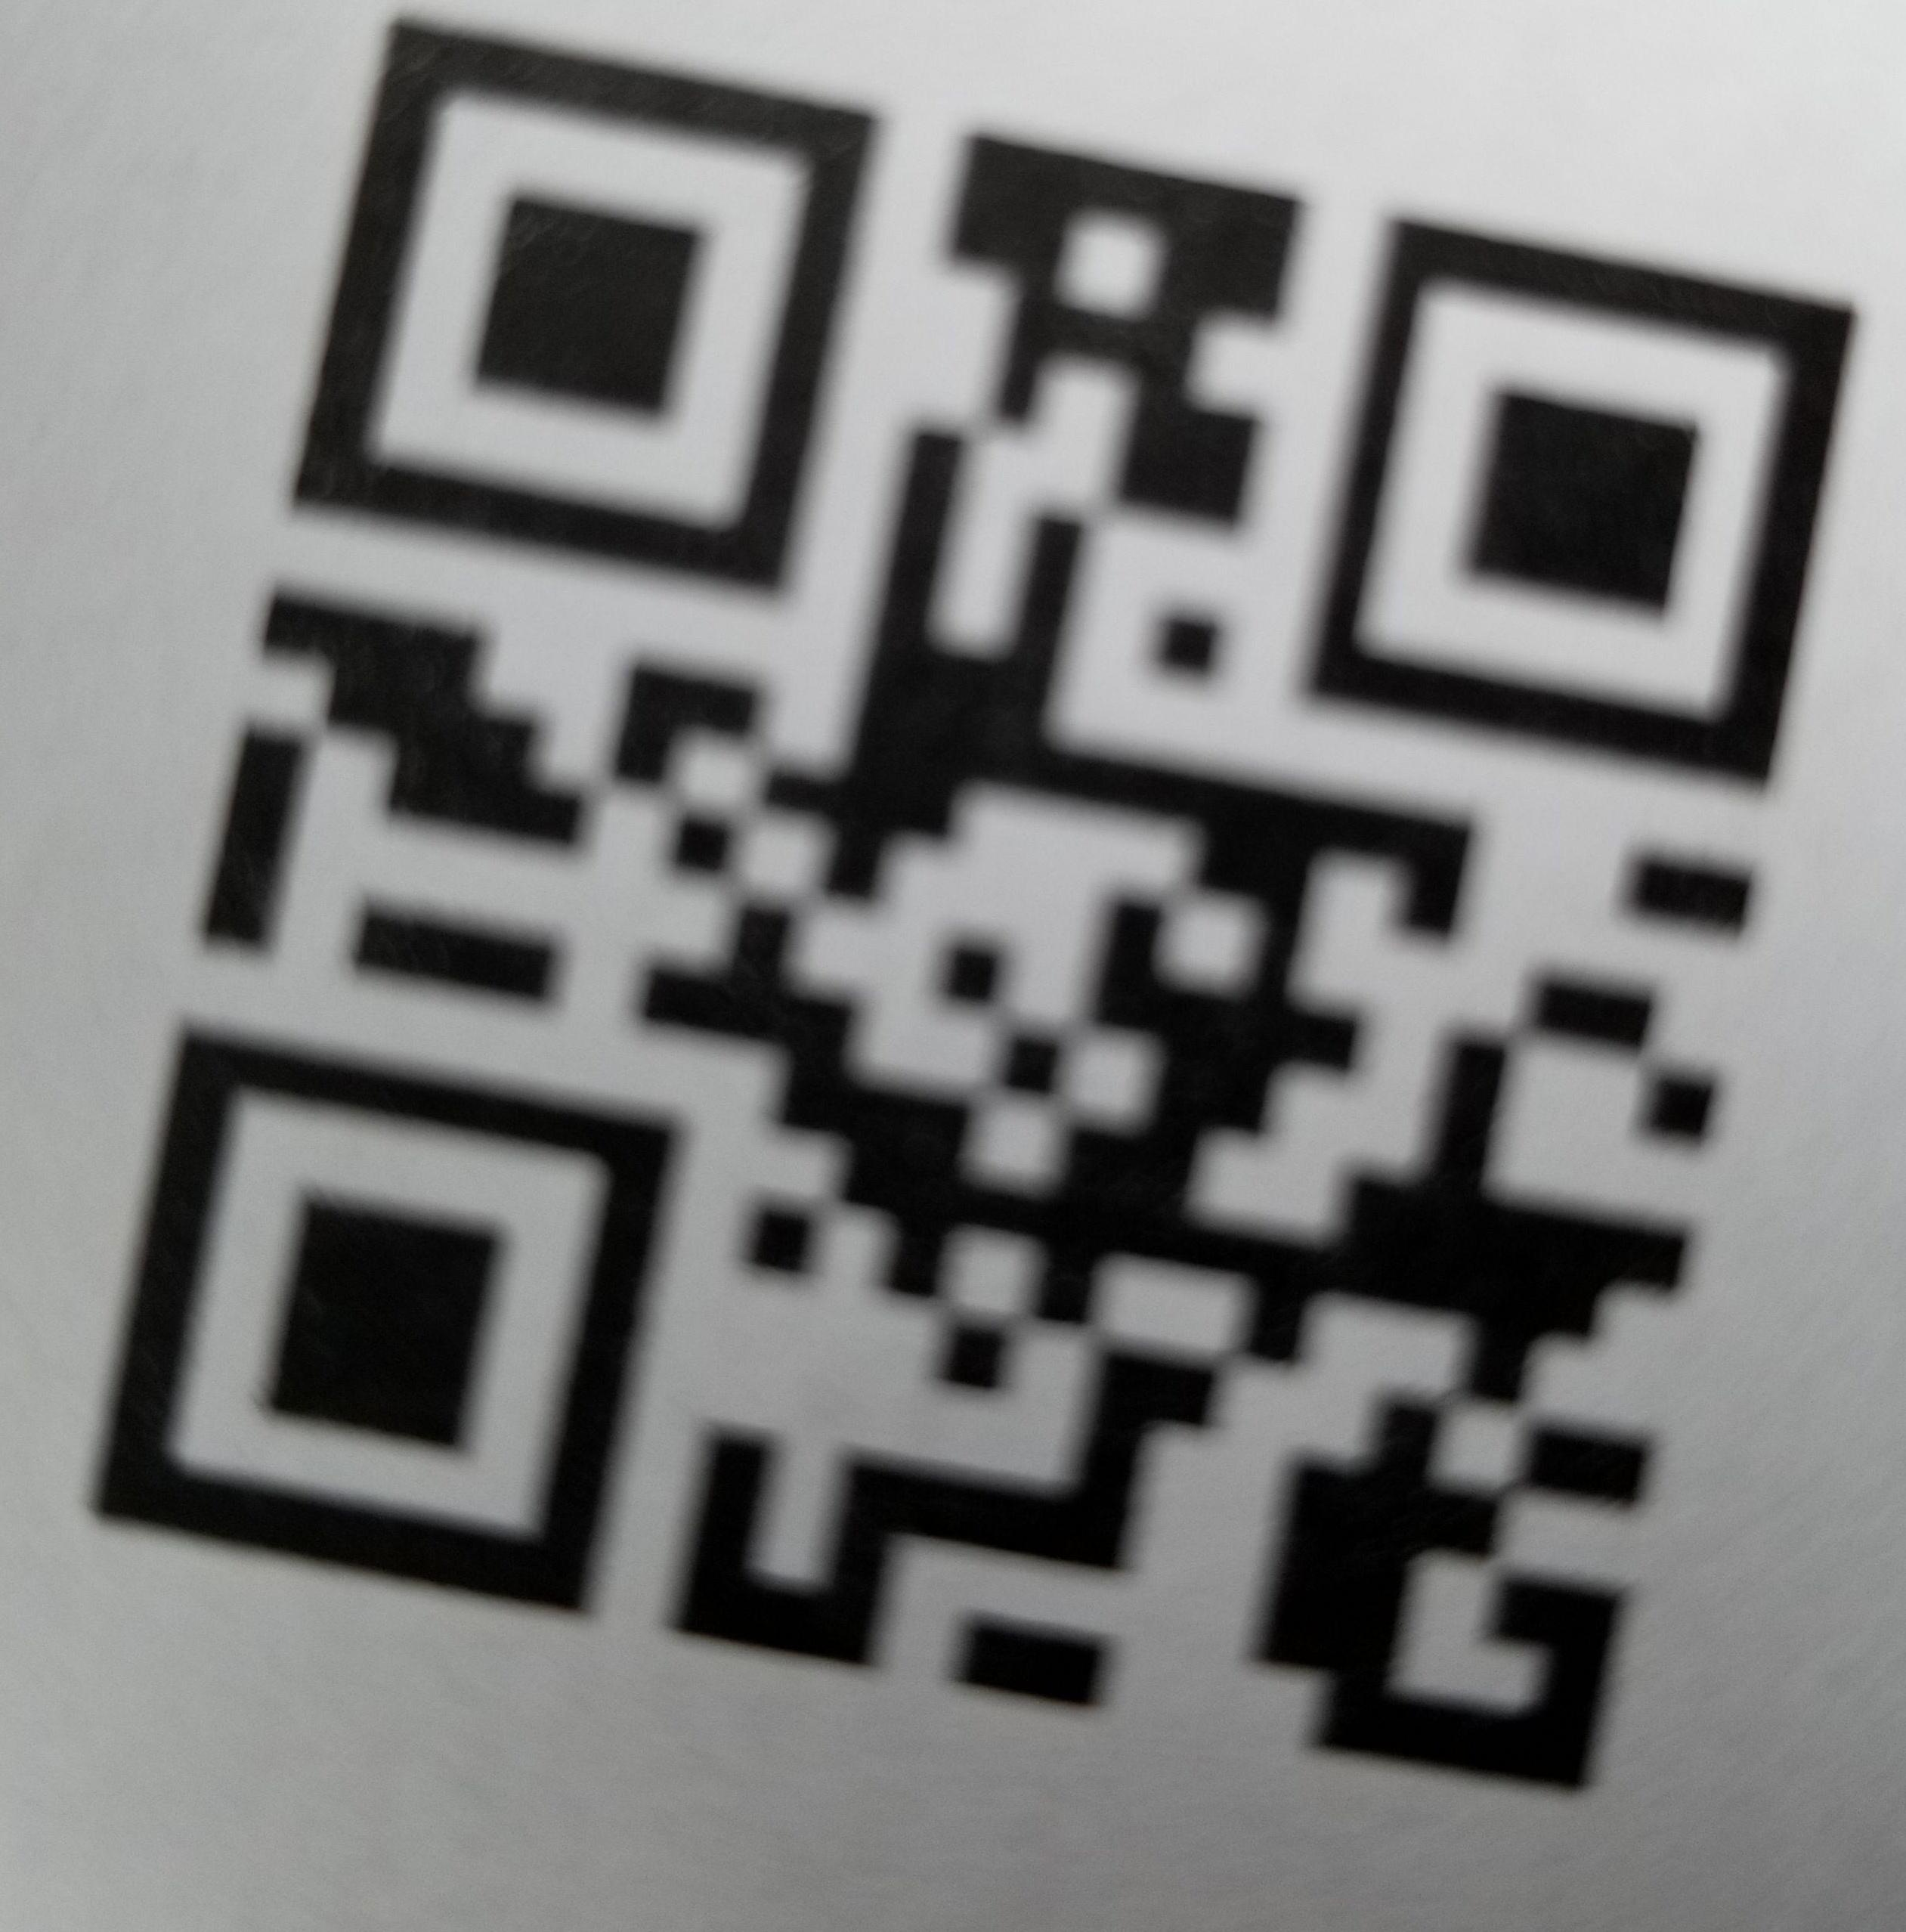qrcode: (91, 17, 1866, 1803)
